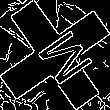M_SW: (21, 22, 89, 88)
